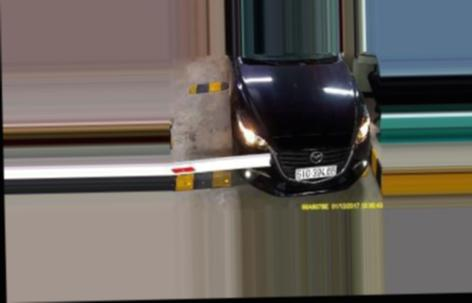License_Plate: (292, 166, 338, 181)
